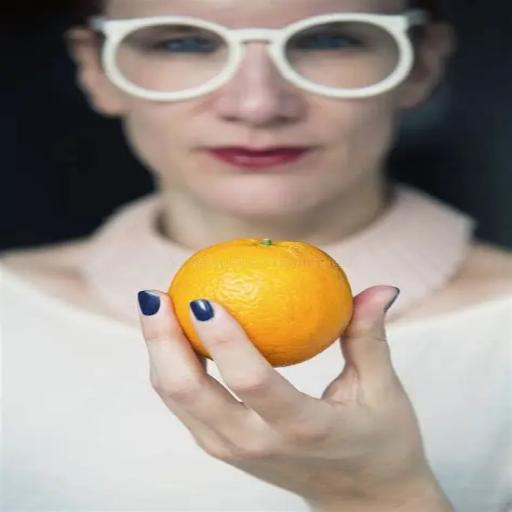orange: (168, 239, 353, 367)
